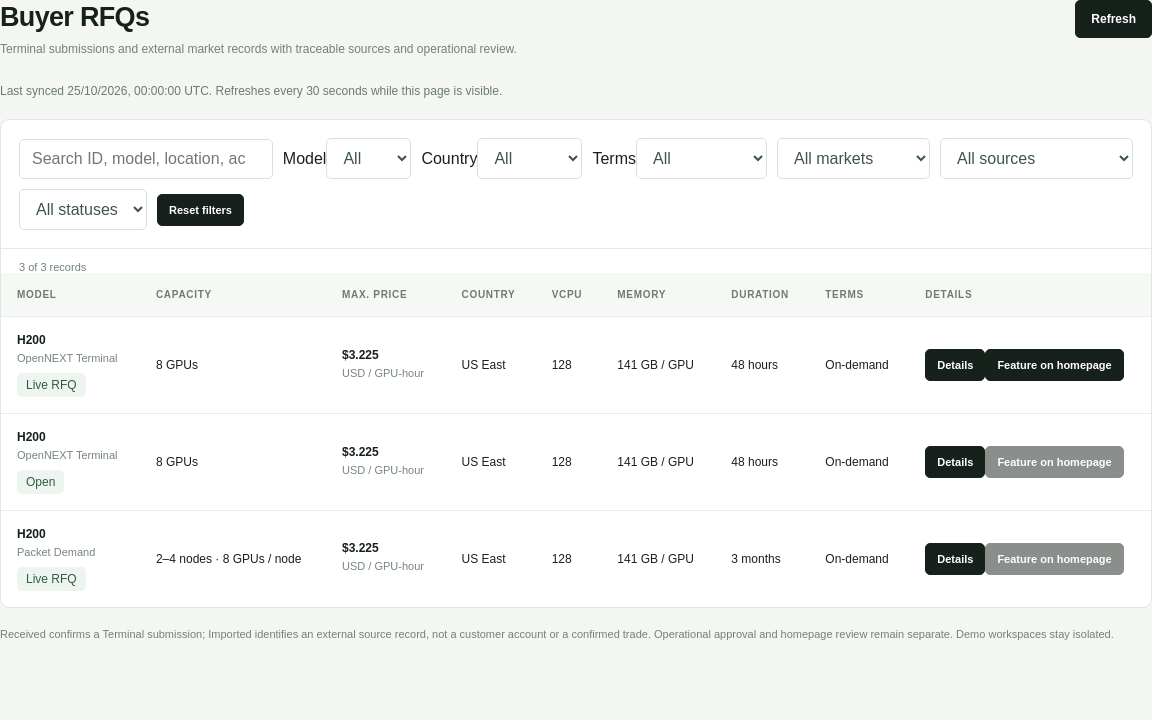
MarketplaceInboxPage › lists RFQs in Terminal column order and shows full details with the review form
This screenshot has width=1152, height=720.
Expected: the text "3 of 3 records" is shown, x1=19 y1=262 x2=86 y2=274
Expected: the text "141 GB / GPU" is shown 3 times, x1=601 y1=317 x2=715 y2=414; x1=601 y1=414 x2=715 y2=510; x1=601 y1=510 x2=715 y2=606
Click the 2nd button "Details": [955, 462] box x1=925 y1=446 x2=985 y2=478
(page scrolled)
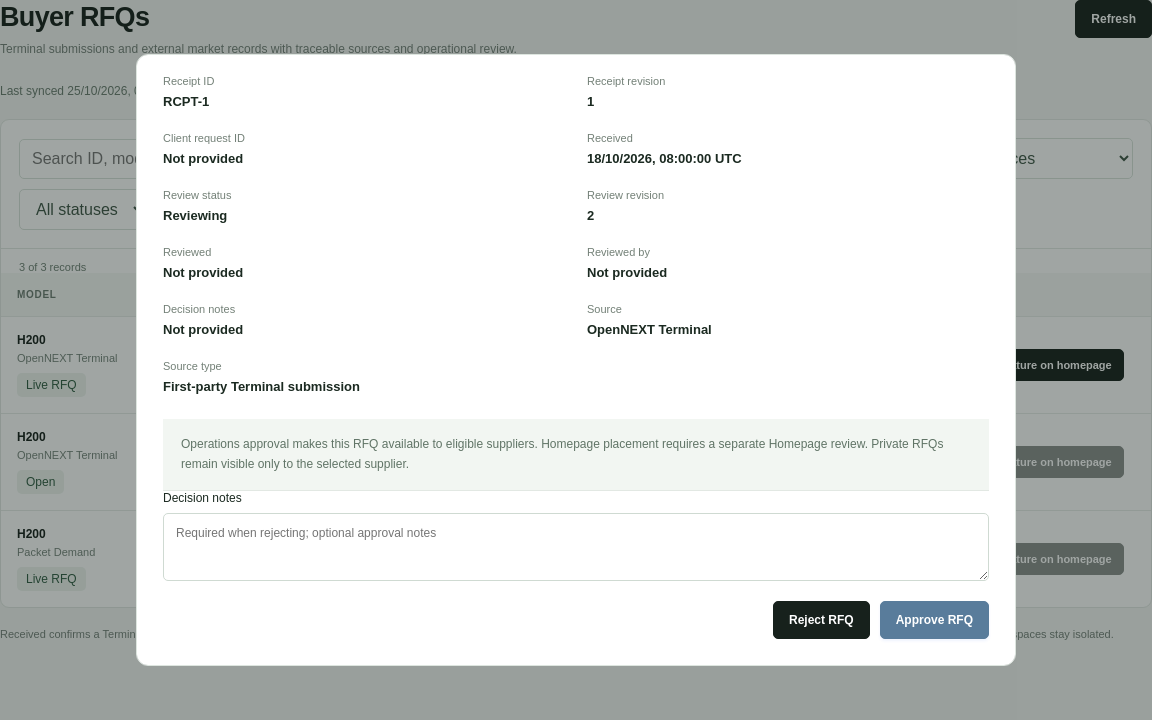
Expected: the button "Approve RFQ" is shown, x1=880 y1=601 x2=989 y2=639
